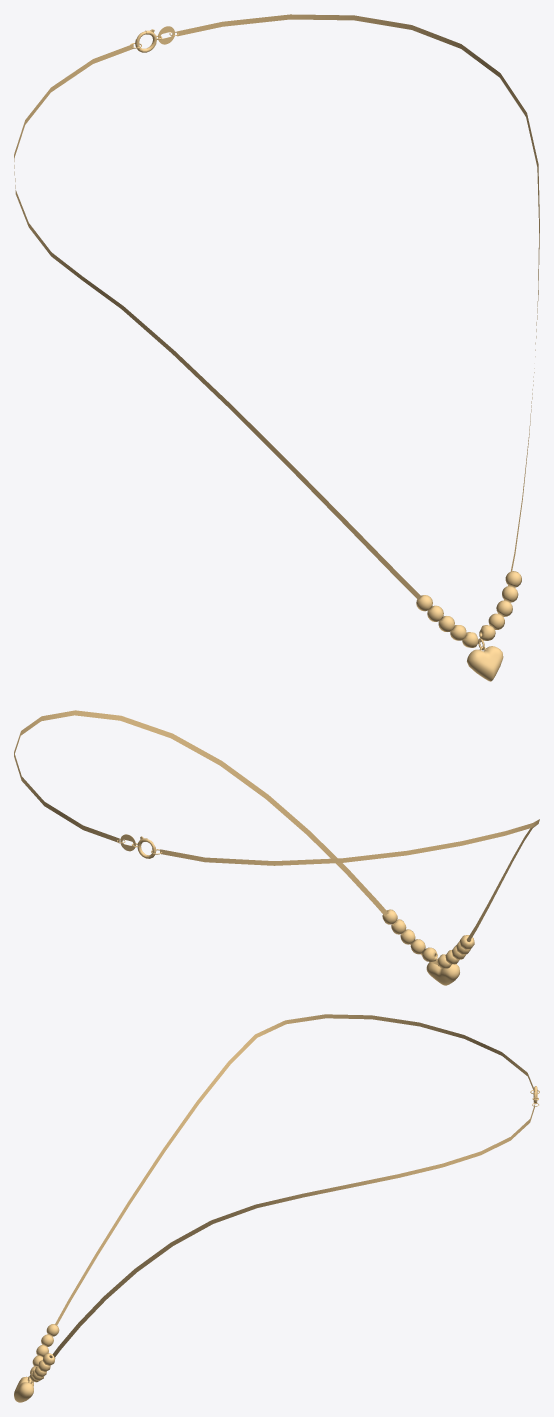
File: HeartNecklace-lowpoly.glb
The picture shows the model from 3 angles, top to bottom: view 1: azimuth 30°, elevation 25°; view 2: azimuth 150°, elevation 25°; view 3: azimuth 270°, elevation 25°; orthographic projection. The views are drawn at different scales.
Parts seen in each view (by area): view 1: low-poly; view 2: low-poly; view 3: low-poly.
Part boxes in pixels (bbox=[...]): low-poly: bbox=[14, 14, 539, 681]; low-poly: bbox=[14, 710, 539, 985]; low-poly: bbox=[14, 1014, 539, 1402].
Bounding box in the file's own units: 0.2021 × 0.1599 × 0.2433.
